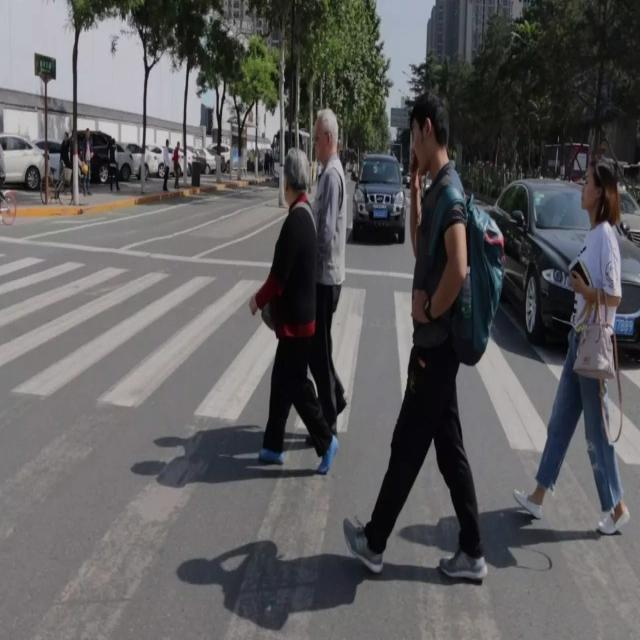non-fight: (342, 89, 510, 586), (525, 156, 633, 538), (246, 126, 339, 475), (311, 109, 347, 442)
